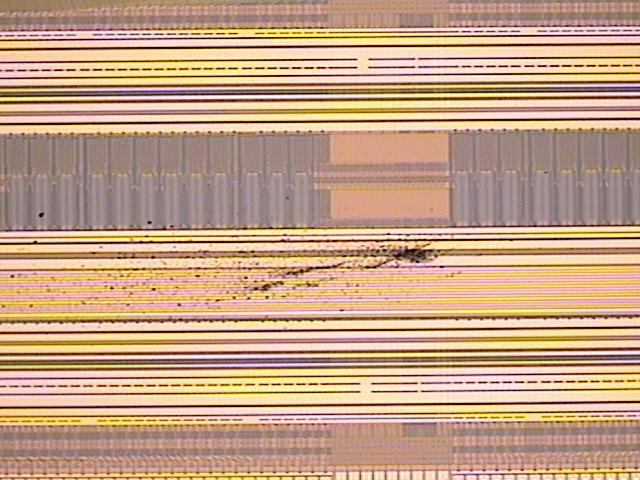SCRATCH: (1, 207, 475, 324)
